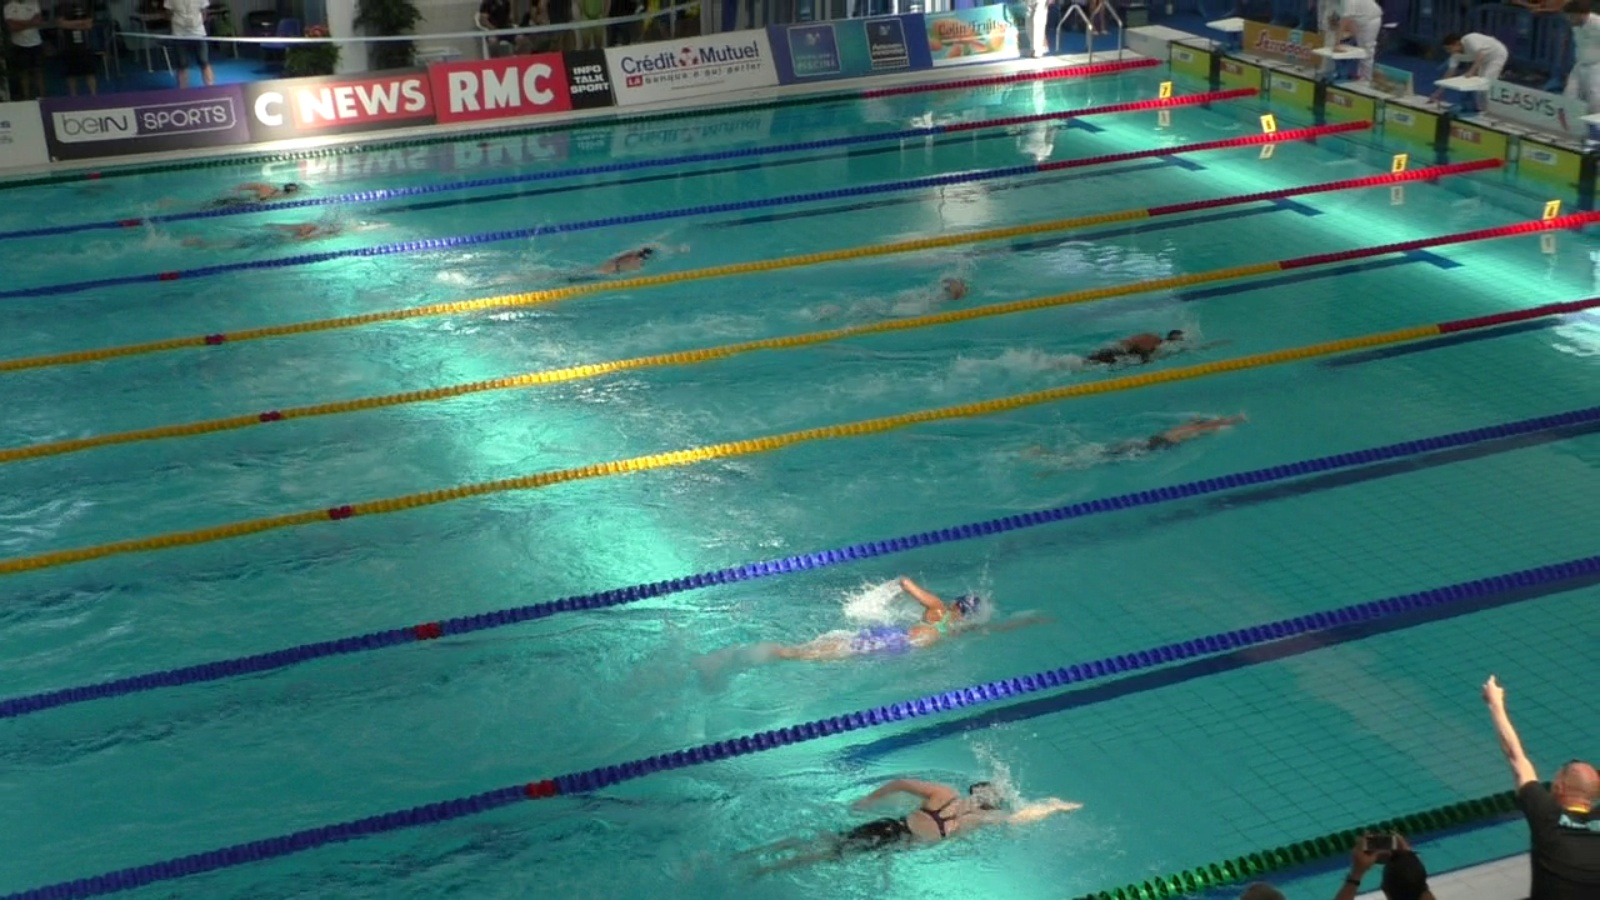swimmerw: (757, 777, 1089, 871), (755, 576, 1042, 669), (1034, 405, 1241, 463), (1041, 332, 1238, 379), (163, 219, 374, 253), (549, 240, 663, 284), (167, 180, 311, 212), (870, 268, 967, 315)
